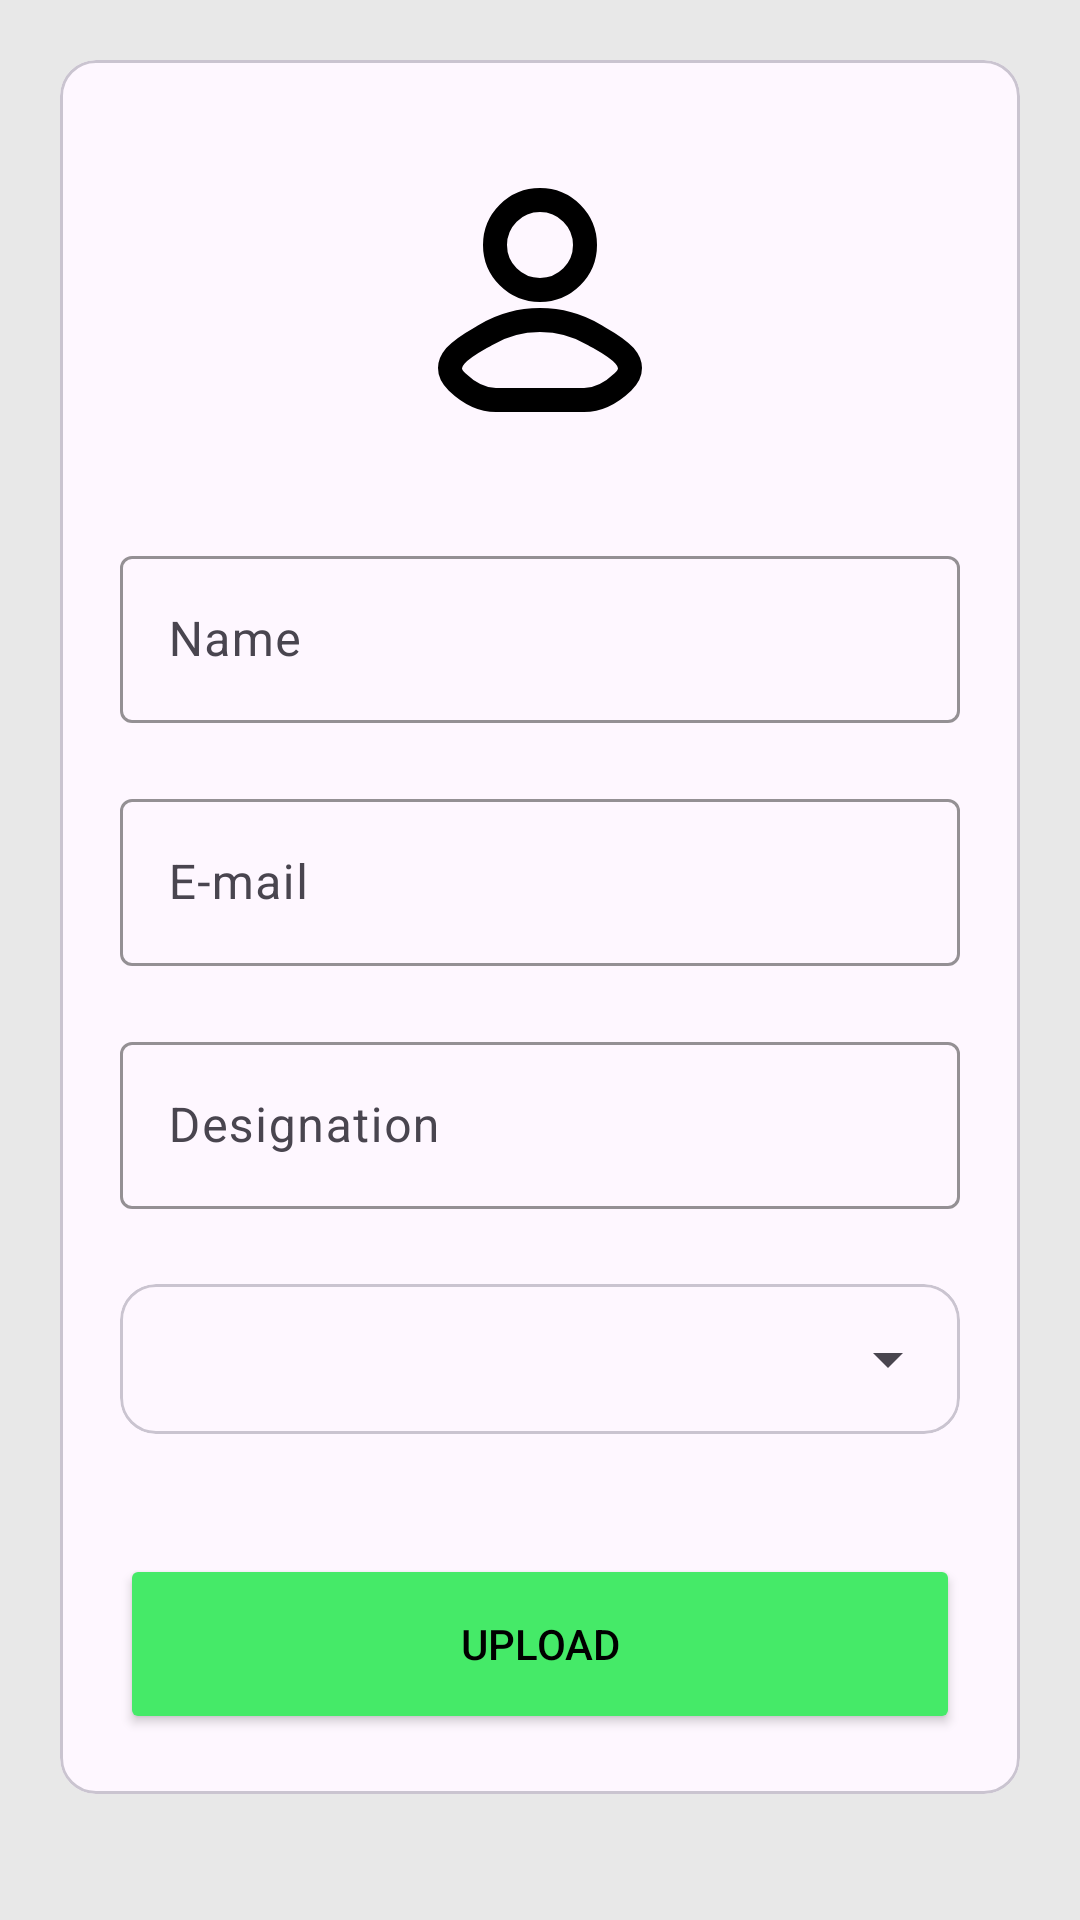

Point at icon controls on the screen. Image size 1080*1920, points as (x=x, y=y).
profile: (x=540, y=300)
